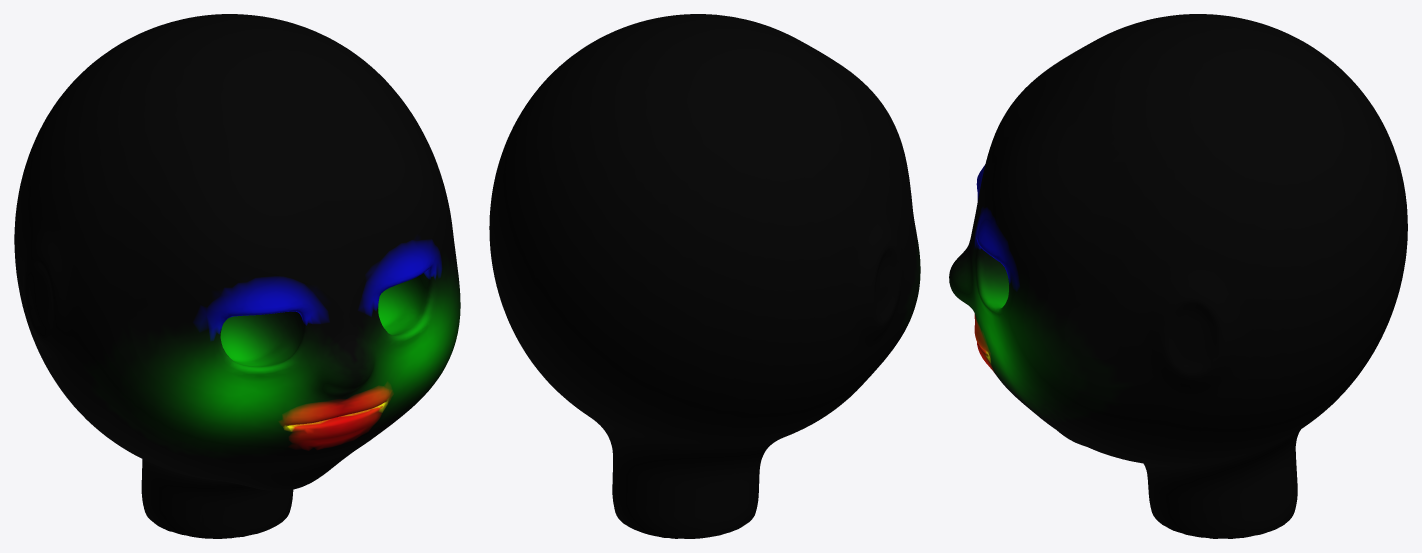
The model's file is head.glb.
The picture shows the model from 3 angles, left to right: view 1: azimuth 30°, elevation 25°; view 2: azimuth 150°, elevation 25°; view 3: azimuth 270°, elevation 25°; orthographic projection. The views are drawn at different scales.
Visible parts, largest first — view 1: head; view 2: head; view 3: head.
Part boxes in pixels (x1,y1,x2,y2): head: (14, 14, 460, 538); head: (489, 14, 920, 538); head: (949, 14, 1407, 538).
Bounding box in the file's own units: 2.12 × 2.53 × 2.21.
